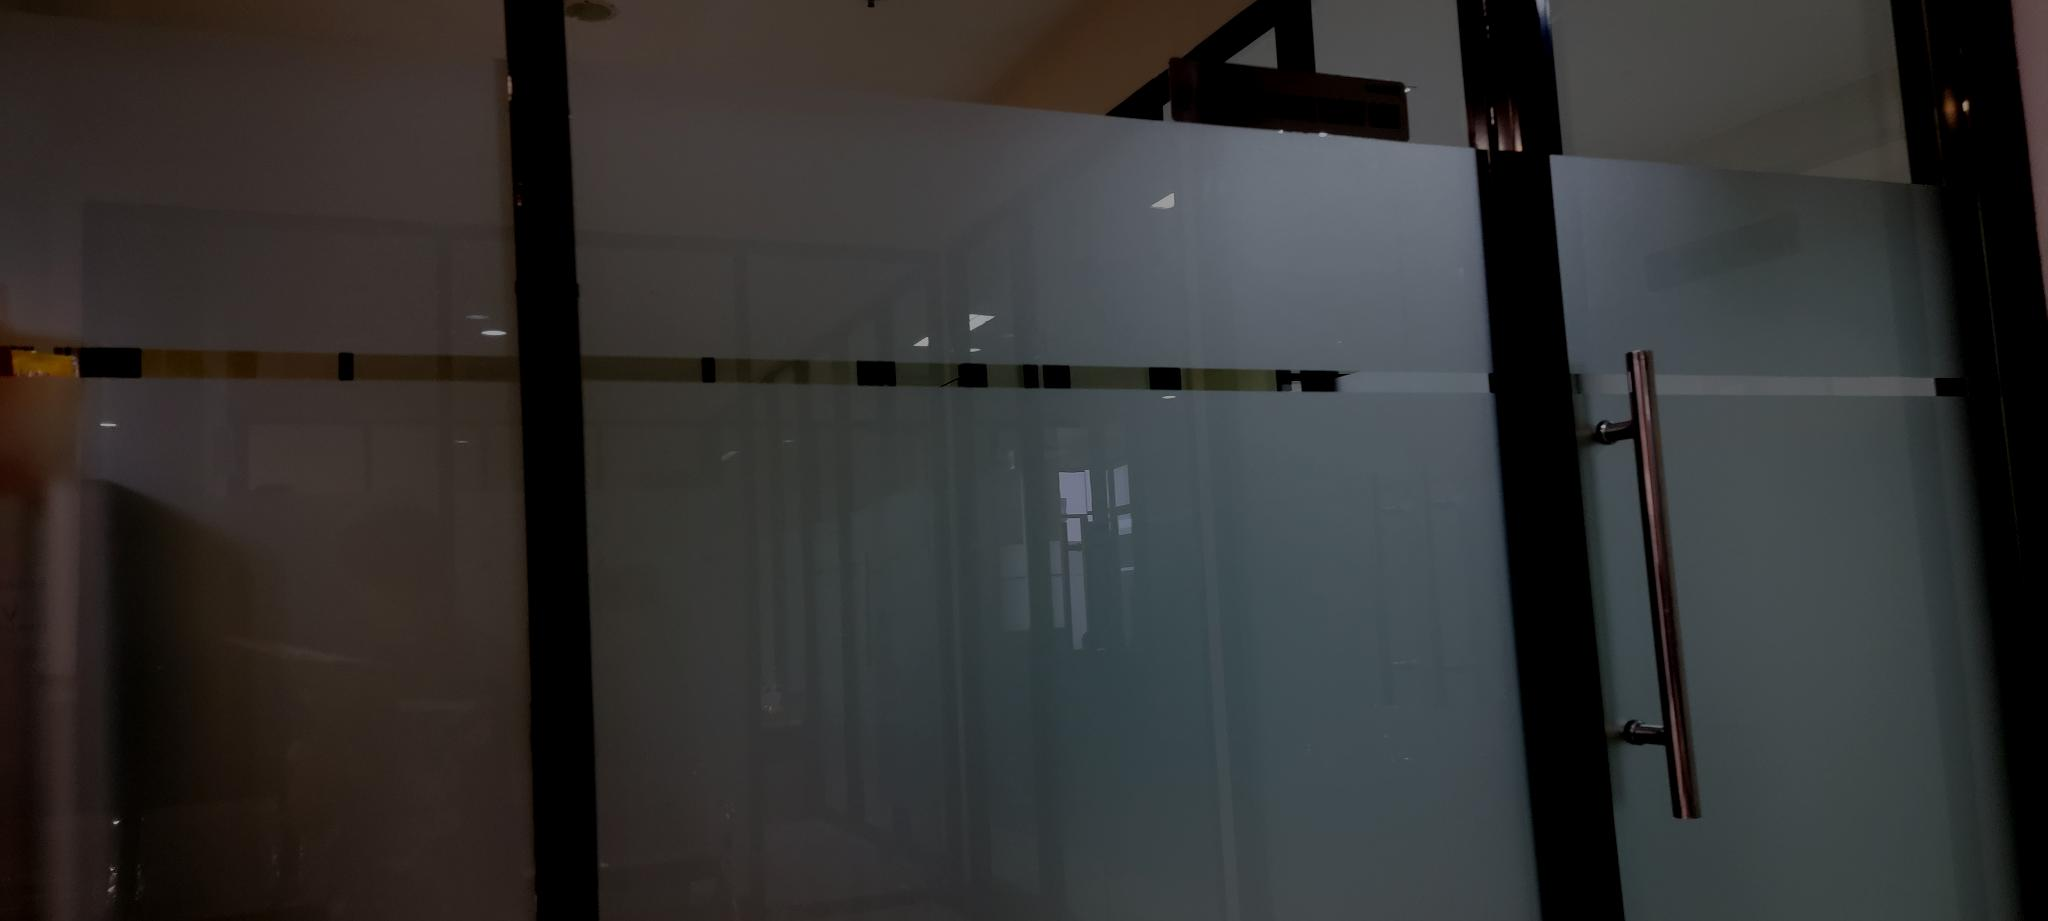plate: (1162, 57, 1409, 142)
